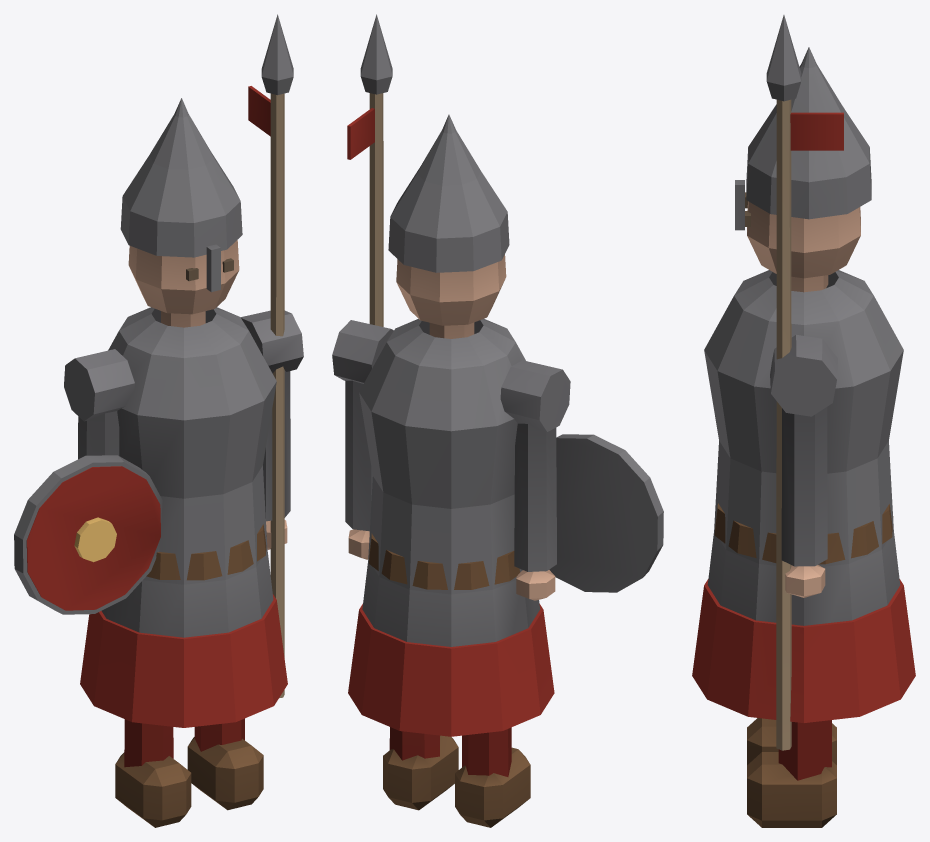
Rendered from unit_ratnik.glb.
3 views of the same model, side by side, from view 1: azimuth 30°, elevation 25°; view 2: azimuth 150°, elevation 25°; view 3: azimuth 270°, elevation 25° (orthographic). The views are drawn at different scales.
Visible parts, largest first — view 1: unit_ratnik; view 2: unit_ratnik; view 3: unit_ratnik.
Part boxes in pixels (box(x1,y1,x2,y2)): unit_ratnik: box(14, 14, 303, 827); unit_ratnik: box(332, 14, 663, 827); unit_ratnik: box(692, 15, 915, 827).
Bounding box in the file's own units: 0.365 × 0.92 × 0.224.
